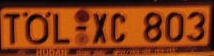0: (165, 10, 184, 41)
3: (186, 10, 206, 43)
8: (143, 10, 161, 43)
C: (112, 11, 128, 44)
L: (52, 11, 69, 44)
O: (23, 12, 49, 45)
T: (2, 10, 19, 45)
X: (90, 12, 108, 45)
